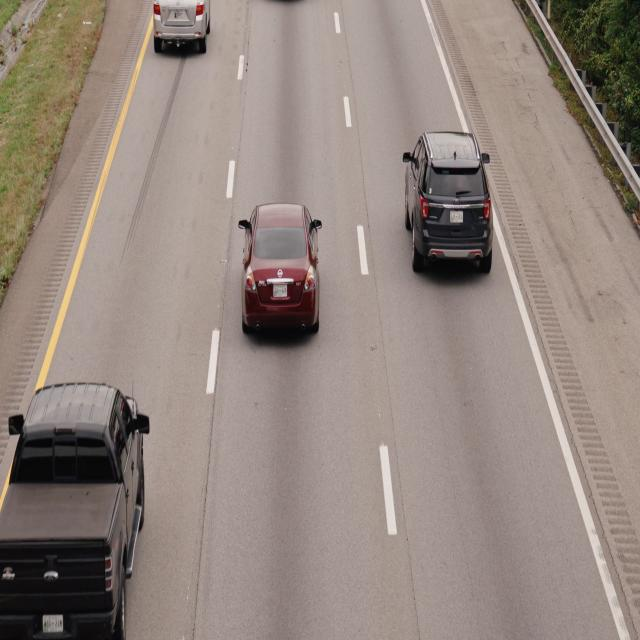Car: (0, 381, 153, 640), (402, 130, 498, 276), (236, 202, 324, 340), (150, 0, 216, 54)
